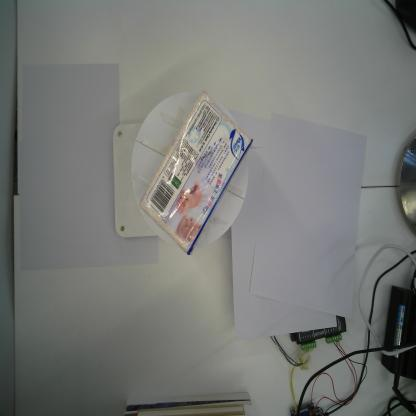Tissue: (138, 90, 254, 258)
